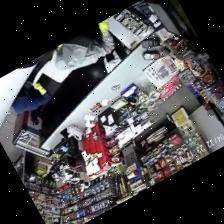person: (27, 19, 113, 83), (55, 19, 113, 69), (11, 83, 51, 113)
